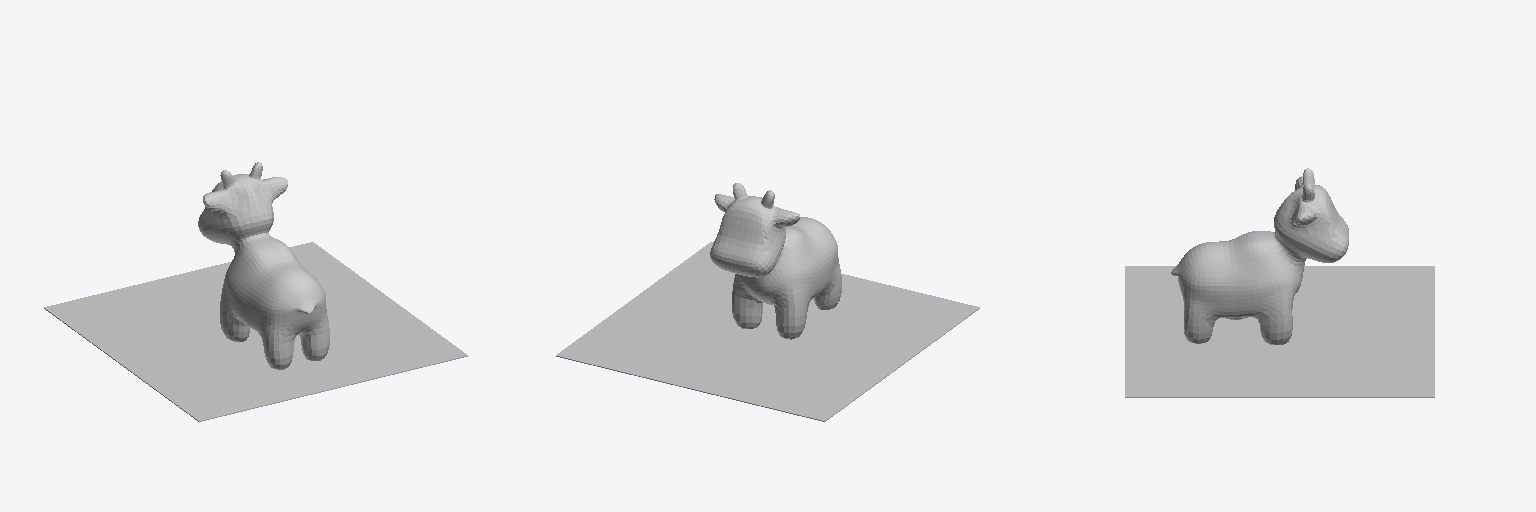
Rendered from cow_on_plane.obj.
The picture shows the model from 3 angles: view 1: azimuth 30°, elevation 25°; view 2: azimuth 150°, elevation 25°; view 3: azimuth 270°, elevation 25°; orthographic projection.
Bounding box in the file's own units: 3 × 1.69 × 3.